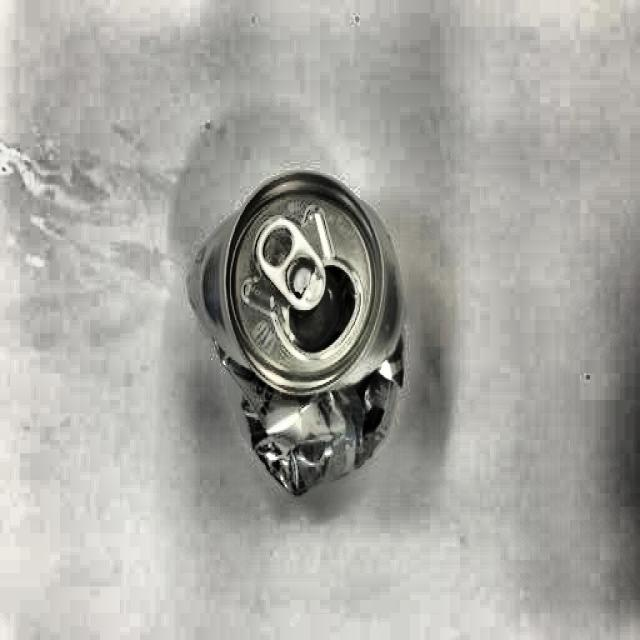metal: (220, 167, 412, 495)
